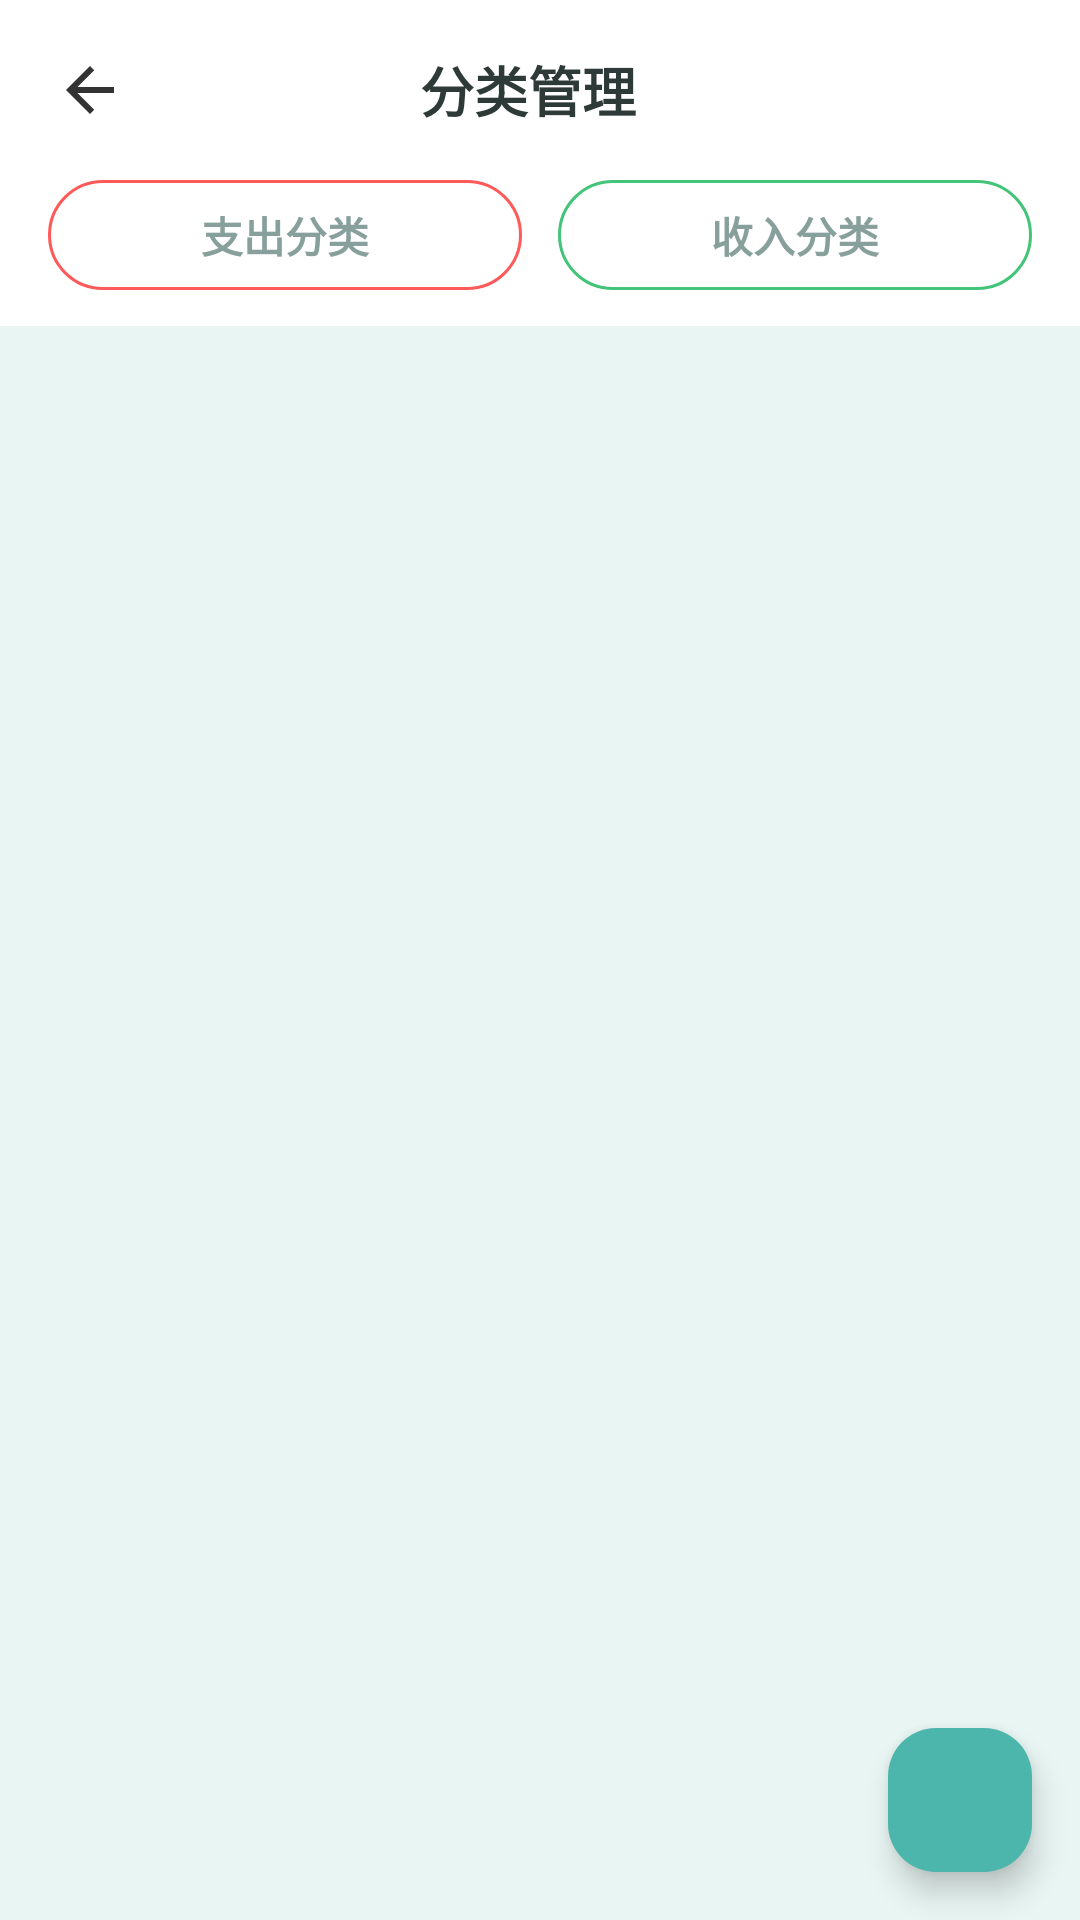

Icons on this 1080×1920 Android screen, each with its box as box(x1, y1, x2, y2):
返回: box(66, 66, 114, 114)
